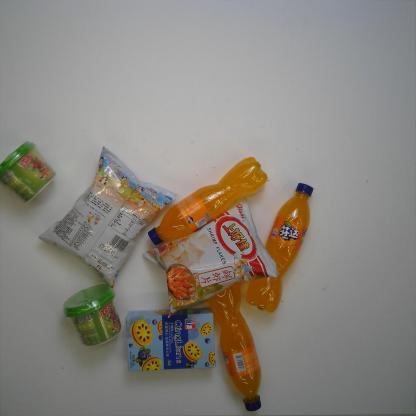Dessert: (125, 306, 218, 376)
Drink: (147, 156, 268, 247), (242, 182, 317, 313), (206, 283, 264, 413)
Instant Drink: (60, 284, 124, 350), (0, 138, 60, 206)
Puffed Food: (33, 145, 179, 293), (140, 194, 278, 319)
